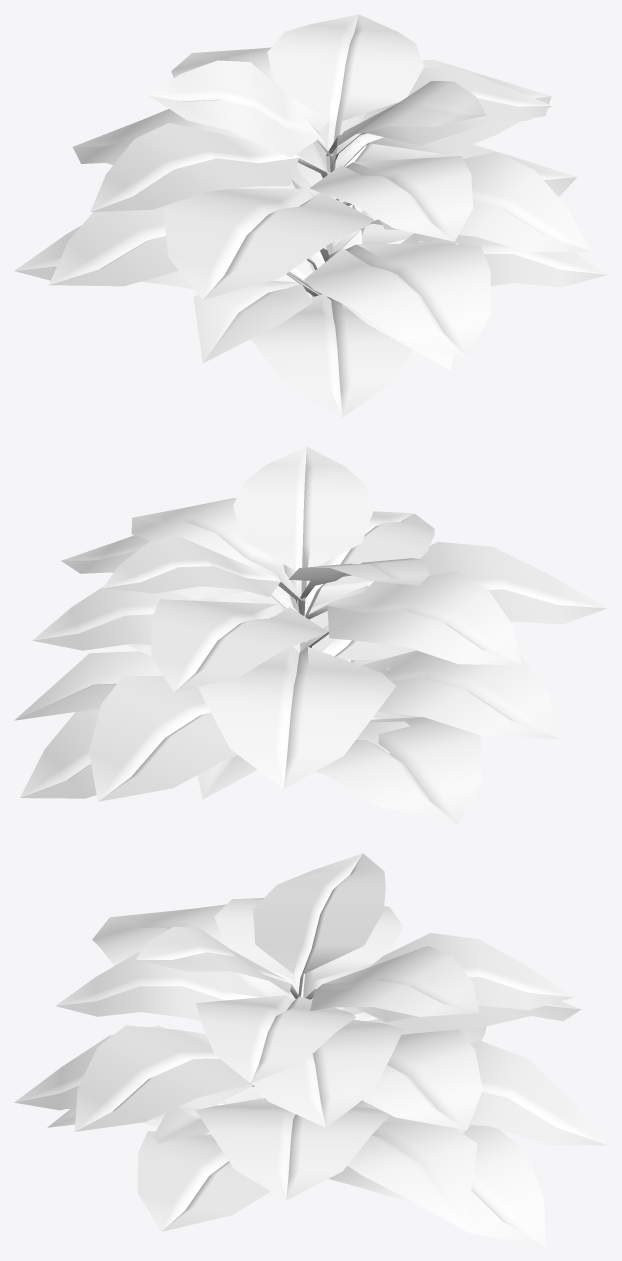
File: PlantsBlue.fbx
The picture shows the model from 3 angles, top to bottom: view 1: azimuth 30°, elevation 25°; view 2: azimuth 150°, elevation 25°; view 3: azimuth 270°, elevation 25°; orthographic projection. The views are drawn at different scales.
Parts seen in each view (by area): view 1: Plane.003, Plane.007; view 2: Plane.003, Plane.007; view 3: Plane.003, Plane.007.
Boxes of the visible parts, left/top/right/bottom form: Plane.003: left=14, top=14, right=607, bottom=417; Plane.007: left=193, top=205, right=457, bottom=369; Plane.003: left=20, top=446, right=607, bottom=824; Plane.007: left=14, top=645, right=423, bottom=799; Plane.003: left=14, top=853, right=607, bottom=1246; Plane.007: left=47, top=1100, right=477, bottom=1227.
Size of the model in its own units: 863 by 394 by 847.
